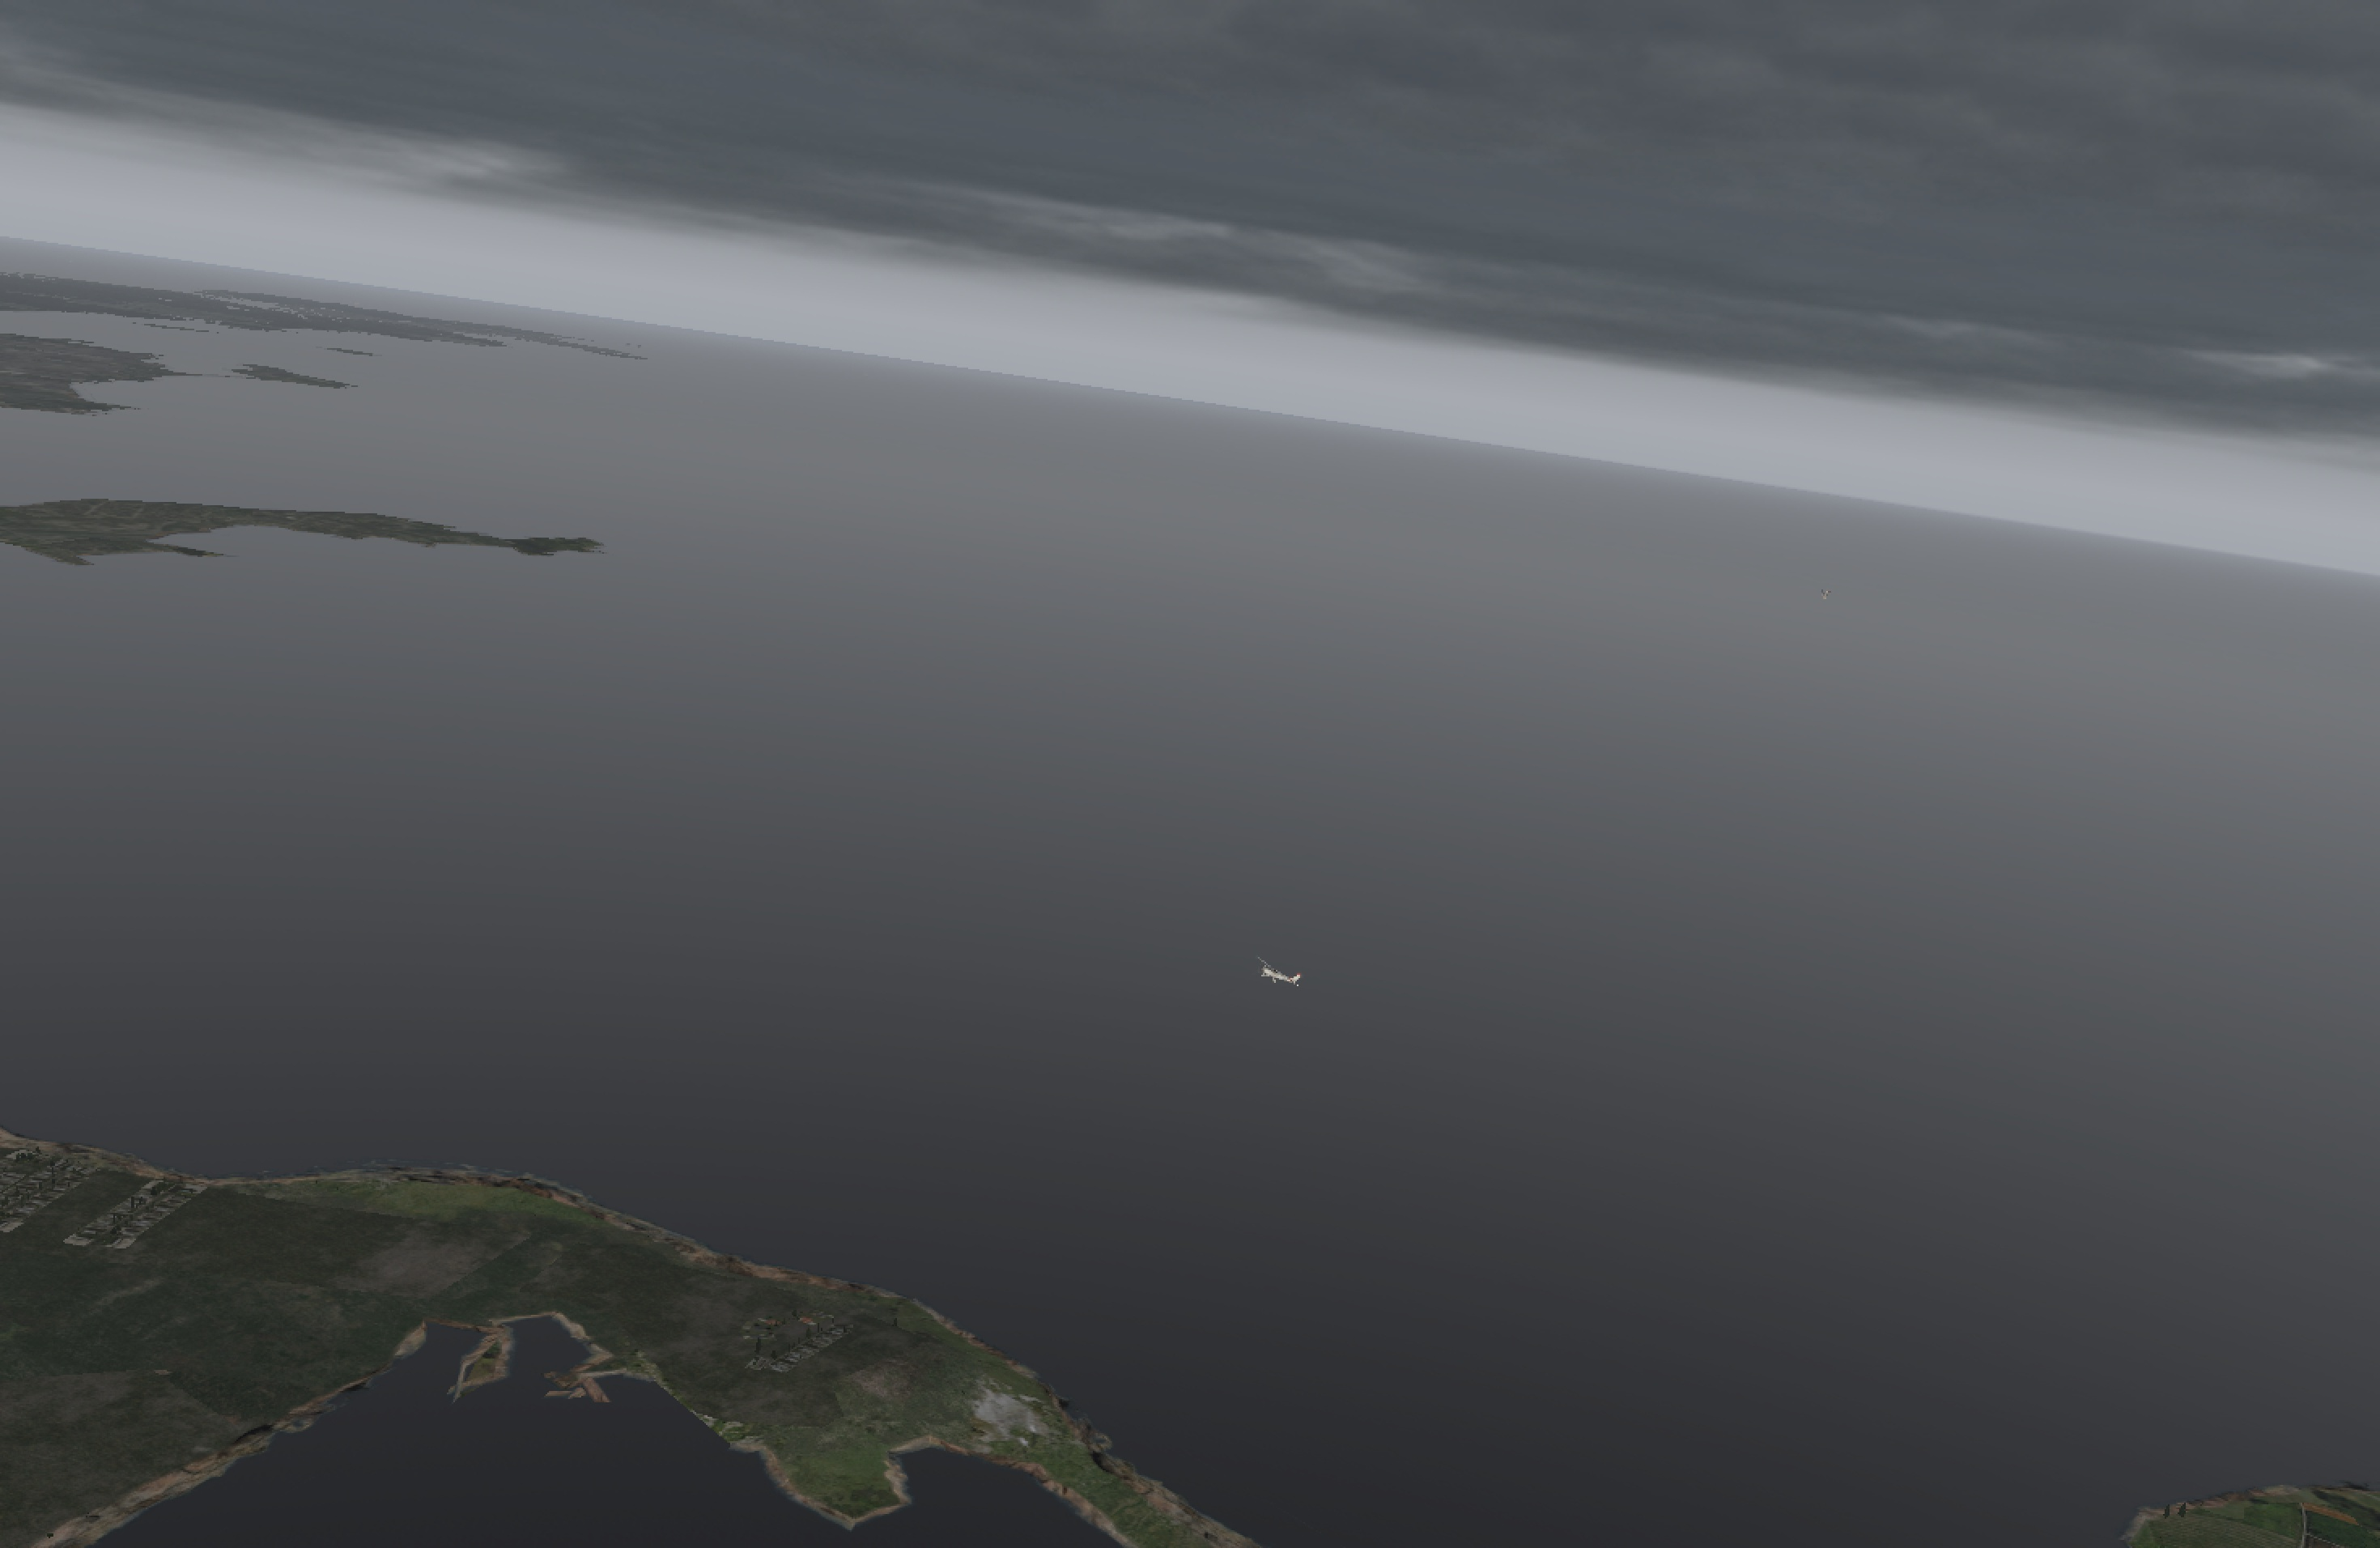aircraft: (1249, 963, 1296, 981)
